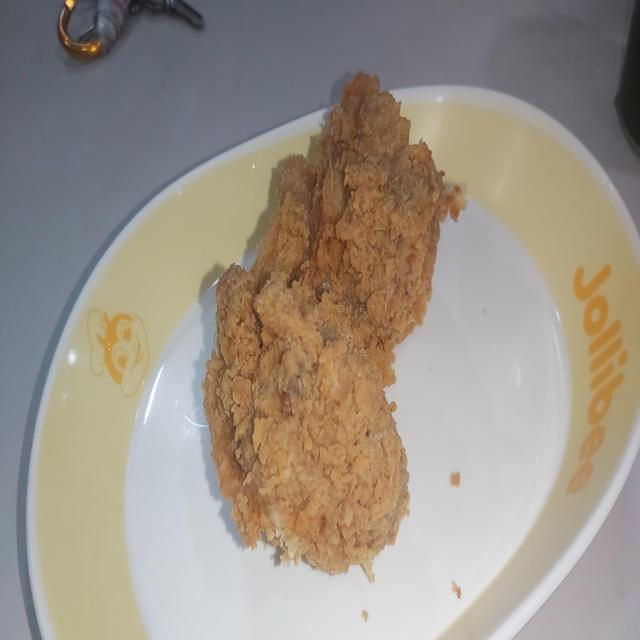Chicken -Fried Chicken-: (191, 75, 446, 625)
